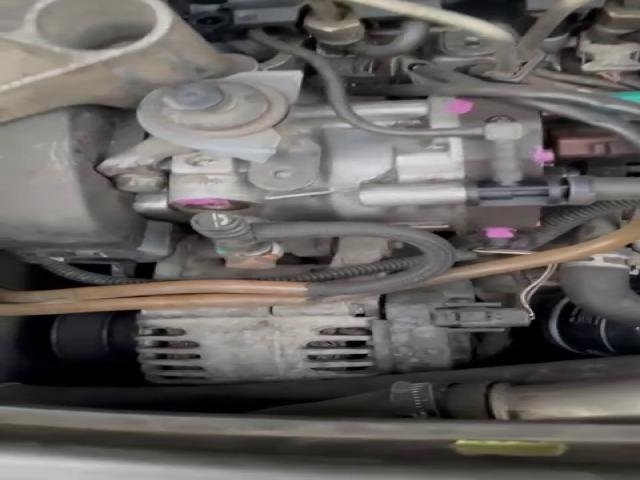alternator: (137, 296, 379, 383)
high_pressure_pump: (137, 97, 601, 247)
